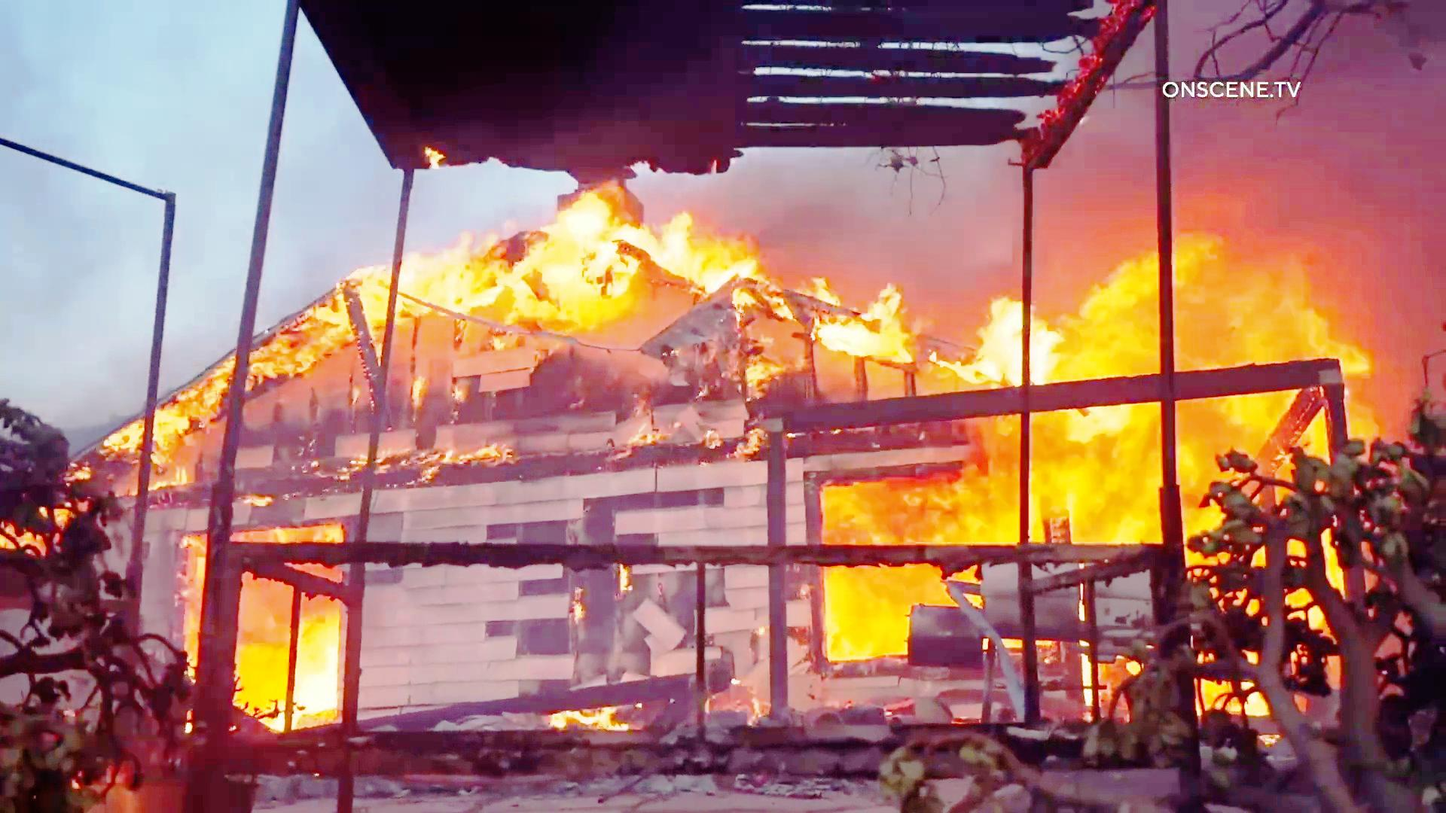fire: (1044, 232, 1350, 517), (397, 166, 727, 320)
